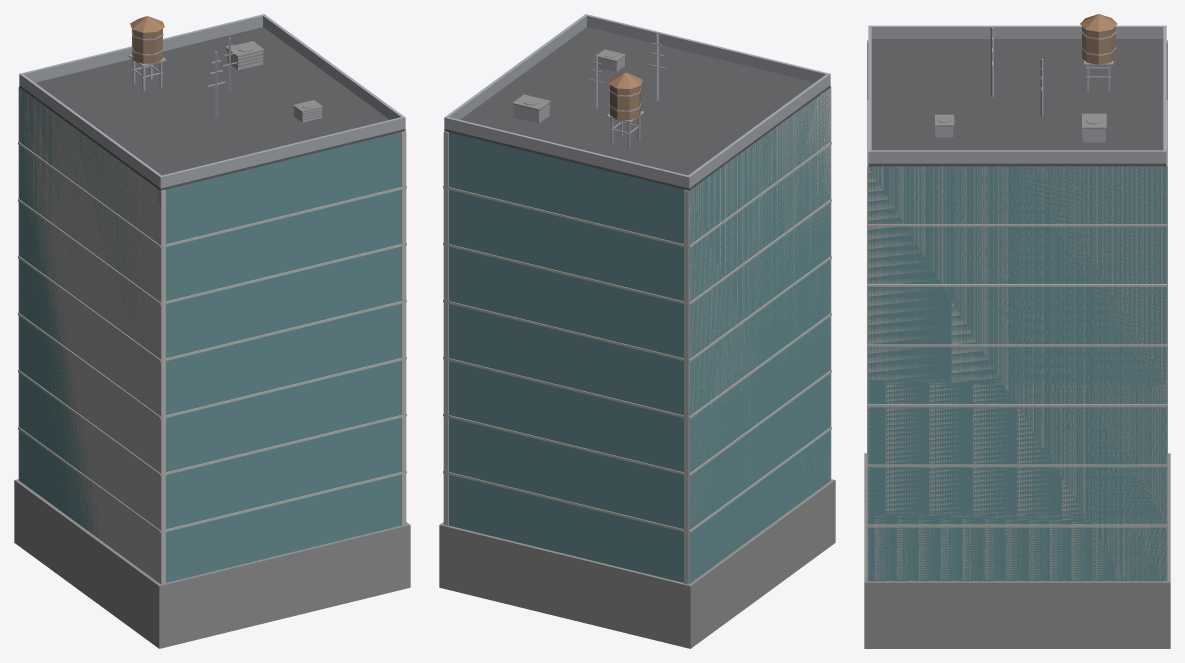
The model's file is bld_glass_01.glb.
3 renders of one model, left to right at view 1: azimuth 30°, elevation 25°; view 2: azimuth 150°, elevation 25°; view 3: azimuth 270°, elevation 25°, orthographic. The views are drawn at different scales.
Visible parts, largest first — view 1: bld_glass_01; view 2: bld_glass_01; view 3: bld_glass_01.
Part boxes in pixels (bbox=[...]): bld_glass_01: bbox=[14, 14, 410, 648]; bld_glass_01: bbox=[439, 14, 835, 648]; bld_glass_01: bbox=[864, 14, 1170, 648].
Bounding box in the file's own units: 16.4 × 32.89 × 16.4.
